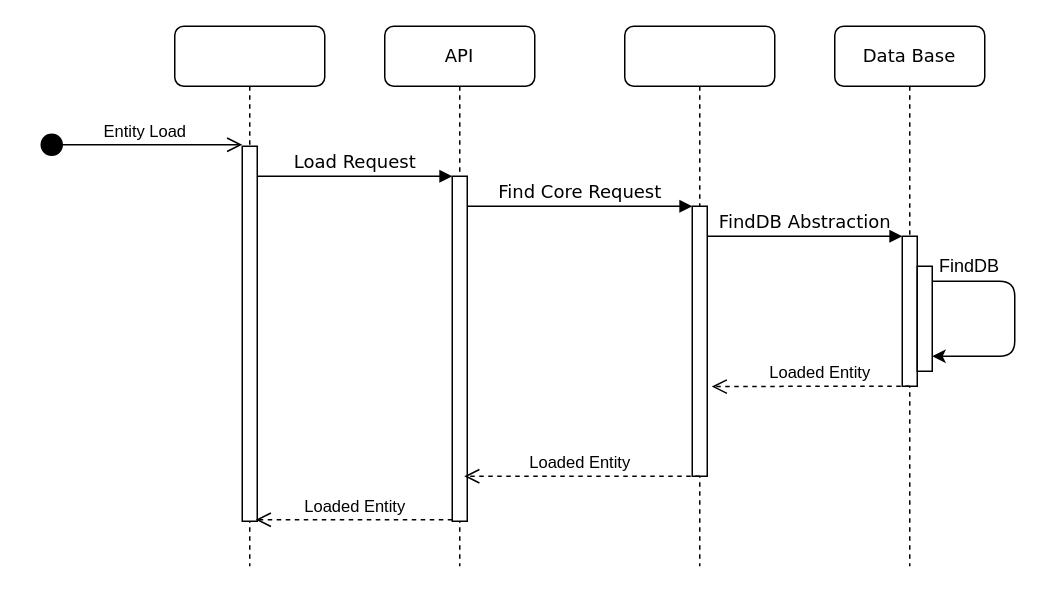
This 1053x593 diagram has some shape labels left out. Here are the shapes that lost their labels. From the top down, the box of each, then its label:
(173, 25, 325, 566): Redux Layer
(623, 25, 775, 566): Core
